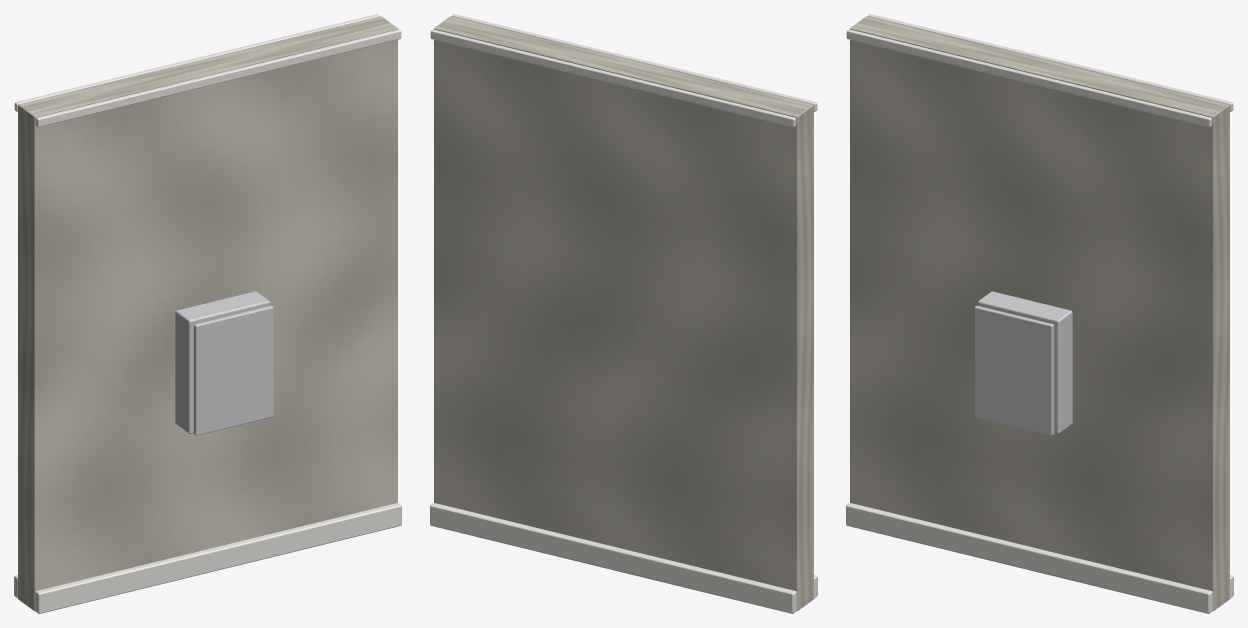
Rendered from paranormal-investigation-house-fuse-box-wall-f5b04fcd__26705.glb.
The picture shows the model from 3 angles, left to right: view 1: azimuth 30°, elevation 25°; view 2: azimuth 150°, elevation 25°; view 3: azimuth 330°, elevation 25°; orthographic projection.
Parts seen in each view (by area): view 1: fuse-box-wall, fuse-box-door; view 2: fuse-box-wall; view 3: fuse-box-wall, fuse-box-door.
Part boxes in pixels (x1=…): fuse-box-wall: x1=14, y1=14, x2=401, y2=613; fuse-box-door: x1=193, y1=305, x2=273, y2=435; fuse-box-wall: x1=430, y1=14, x2=817, y2=613; fuse-box-wall: x1=846, y1=14, x2=1233, y2=613; fuse-box-door: x1=974, y1=305, x2=1054, y2=435.
Size of the model in its own units: 2 by 2.6 by 0.3775.
Materials: 4 (1 with a texture image).
